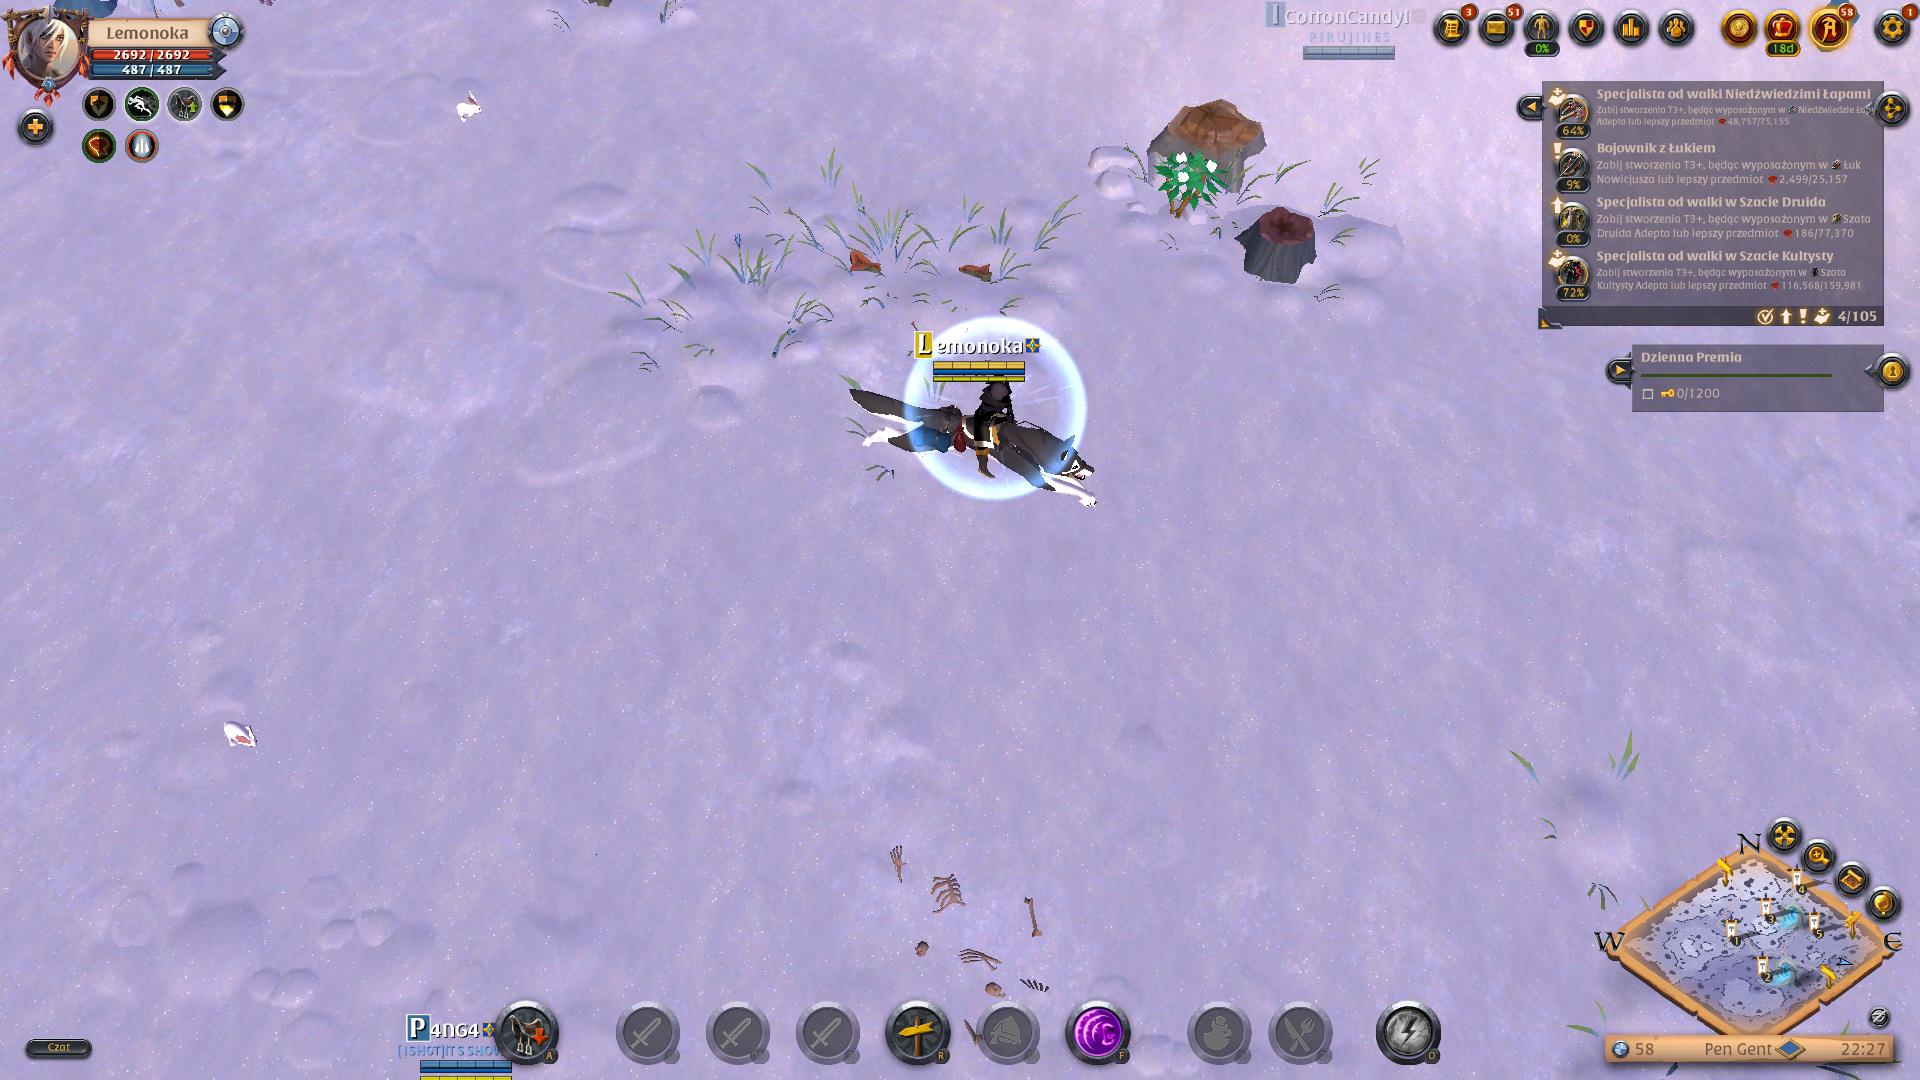fiber tier 3: (1156, 144, 1224, 223)
